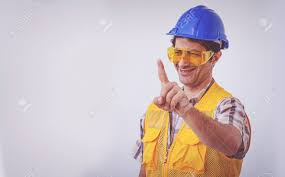Person_wearing_helmet: (159, 2, 230, 60)
